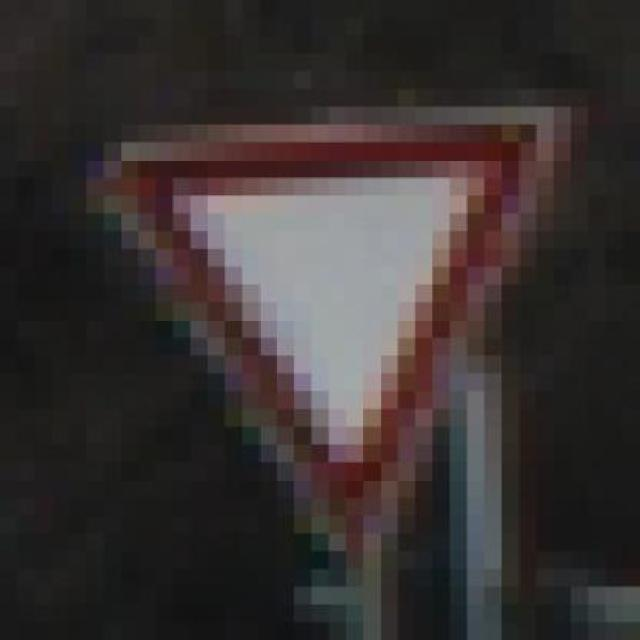Give Way: (52, 76, 606, 610)
